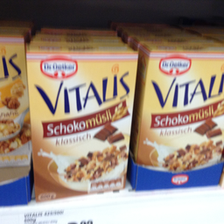cereal: (25, 46, 139, 204), (136, 43, 224, 175)
